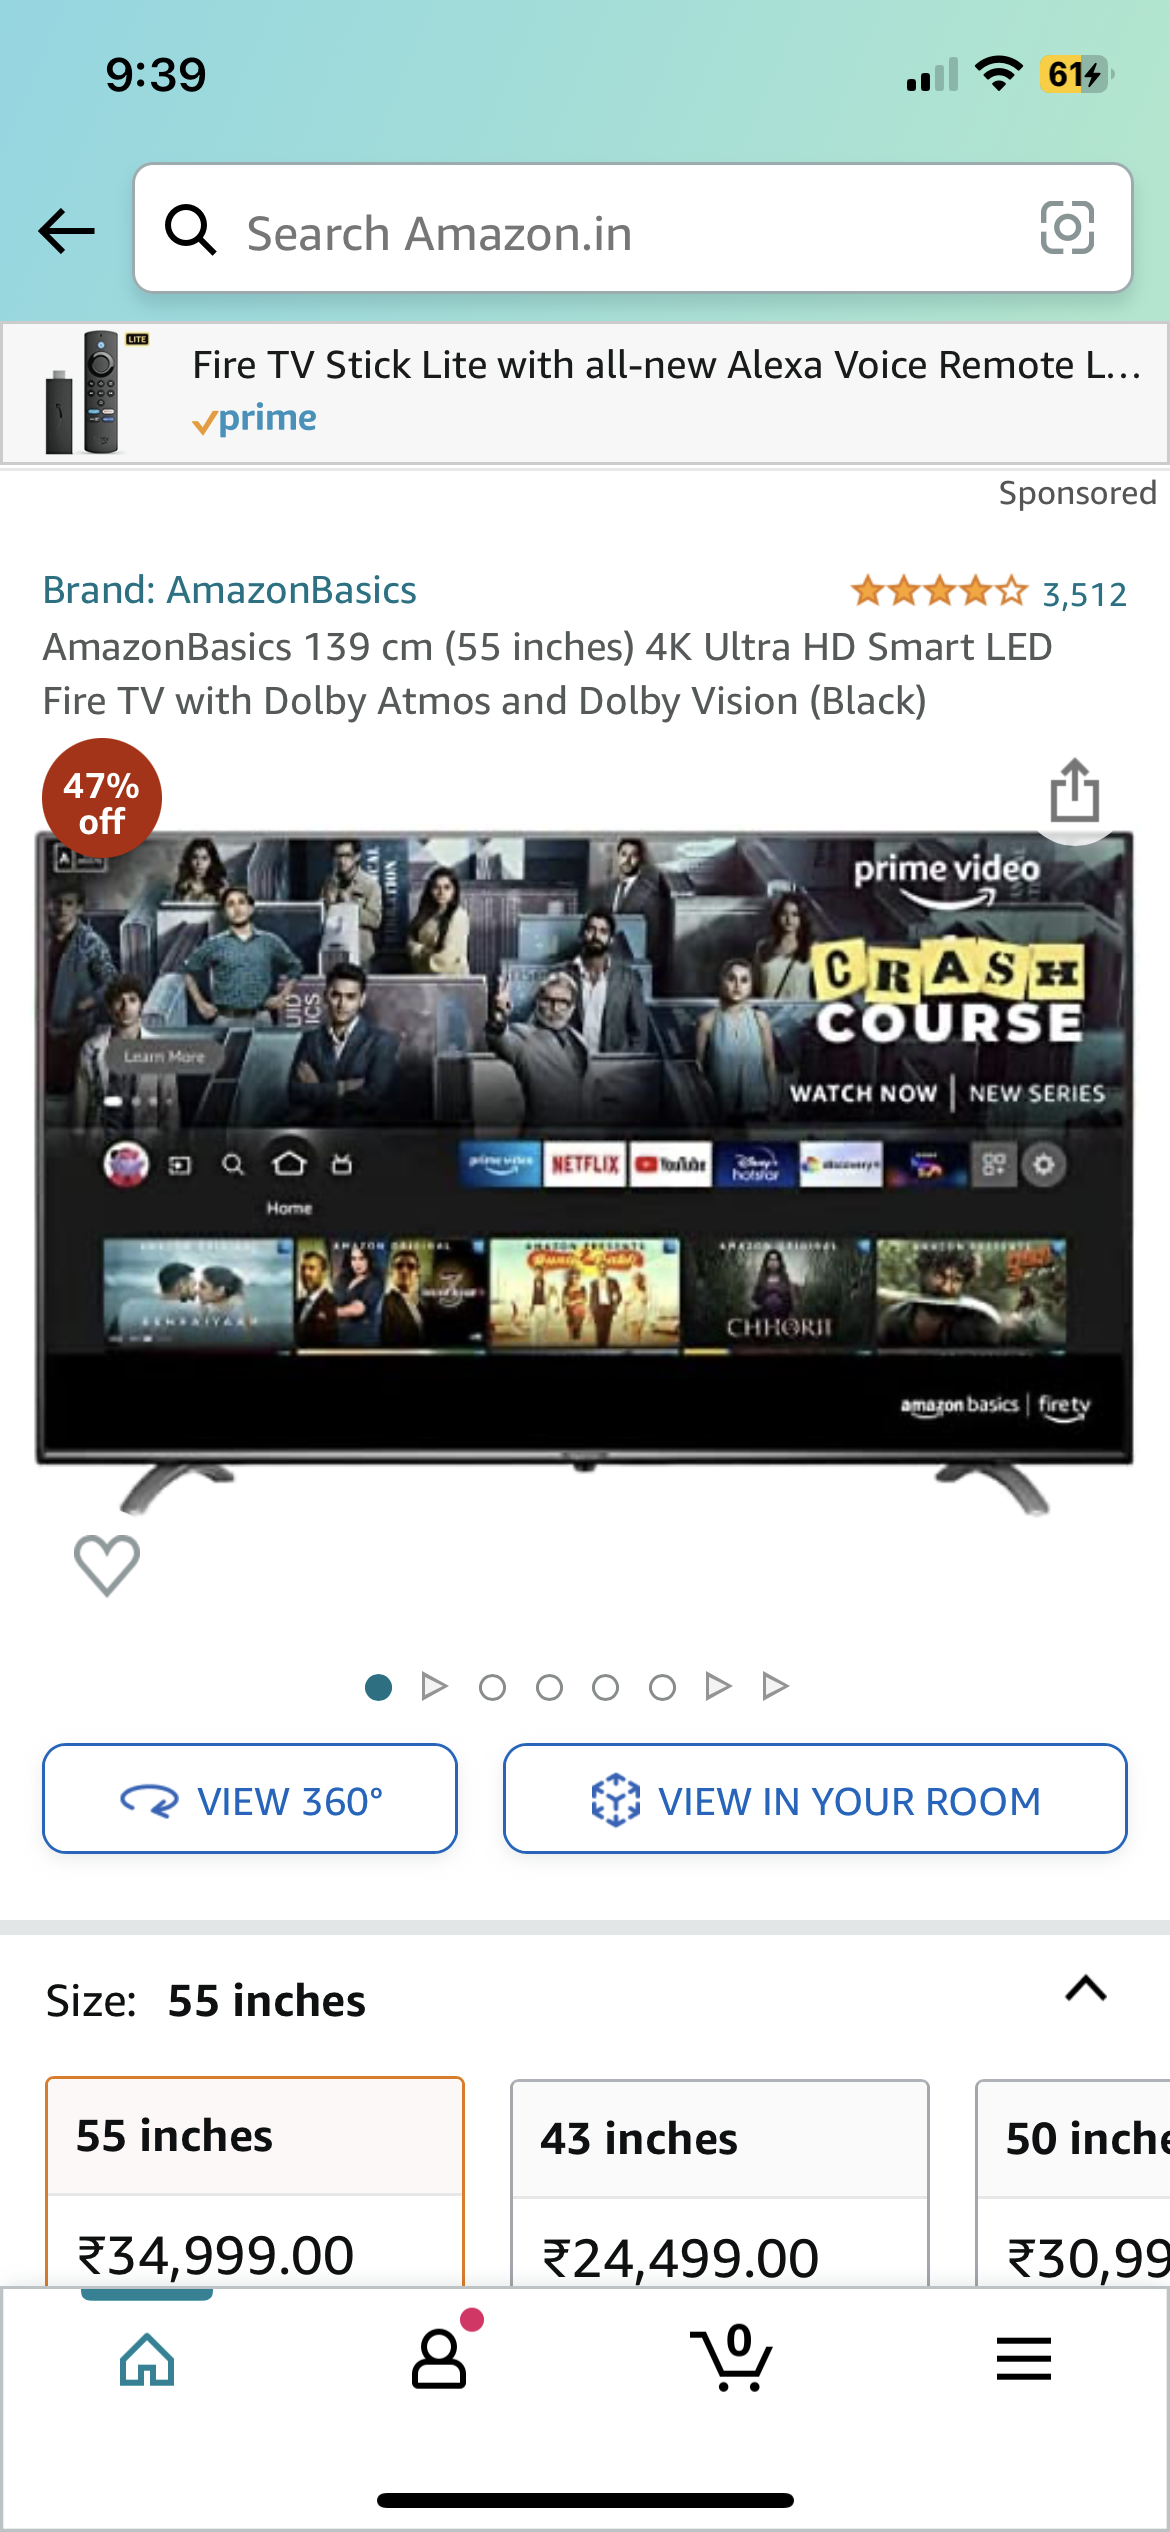LEDTV: (29, 819, 1136, 1521)
